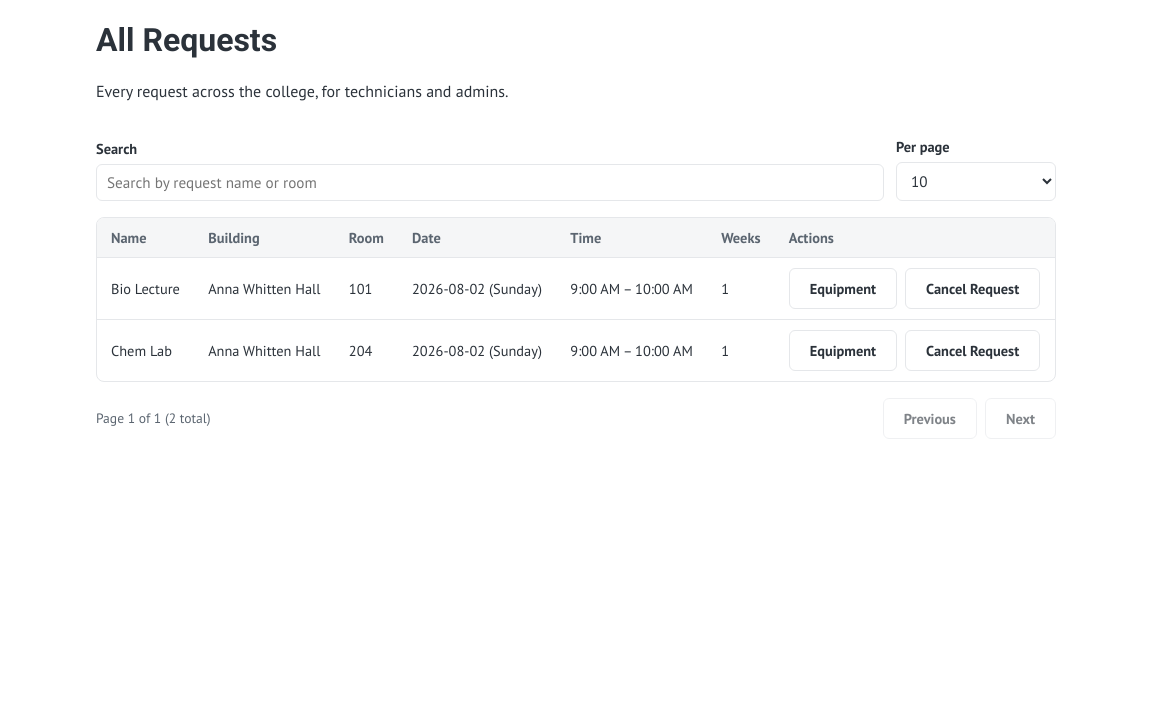
Test: tracking a unit names the unit and its previous booking in the legend
Click the button "Equipment" in the row of "Bio Lecture" at (843, 288), box [789,268,897,309]
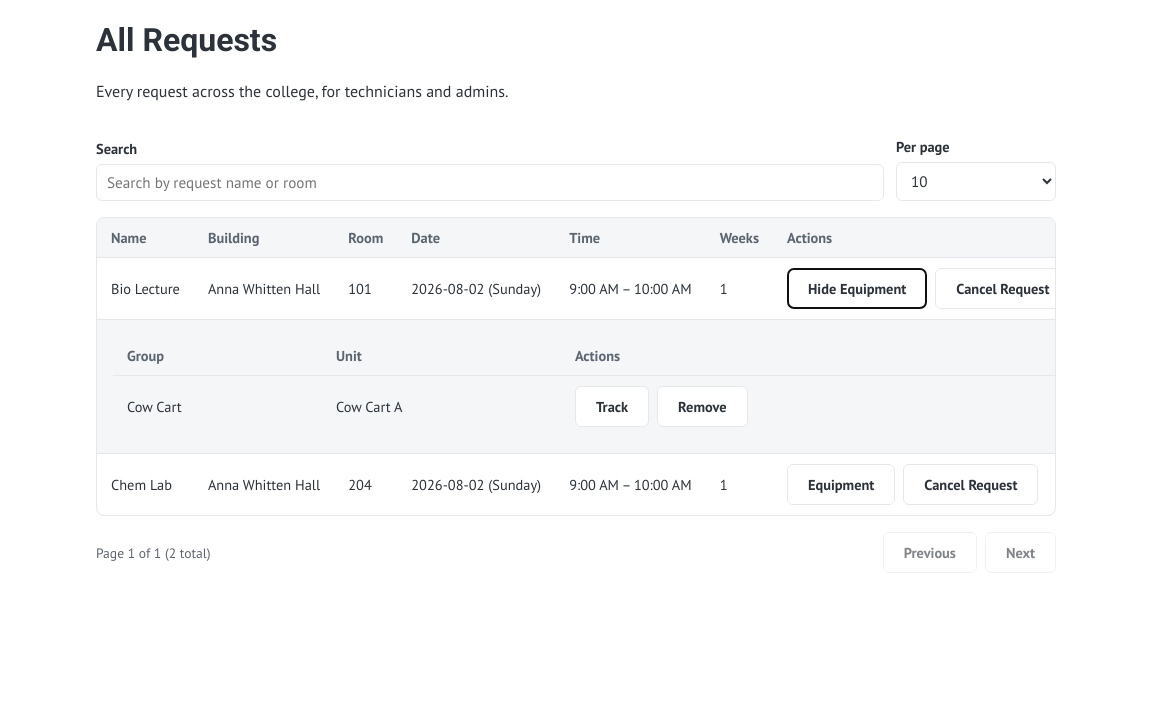
Click the button "Track" at (612, 407), box [575,386,649,427]
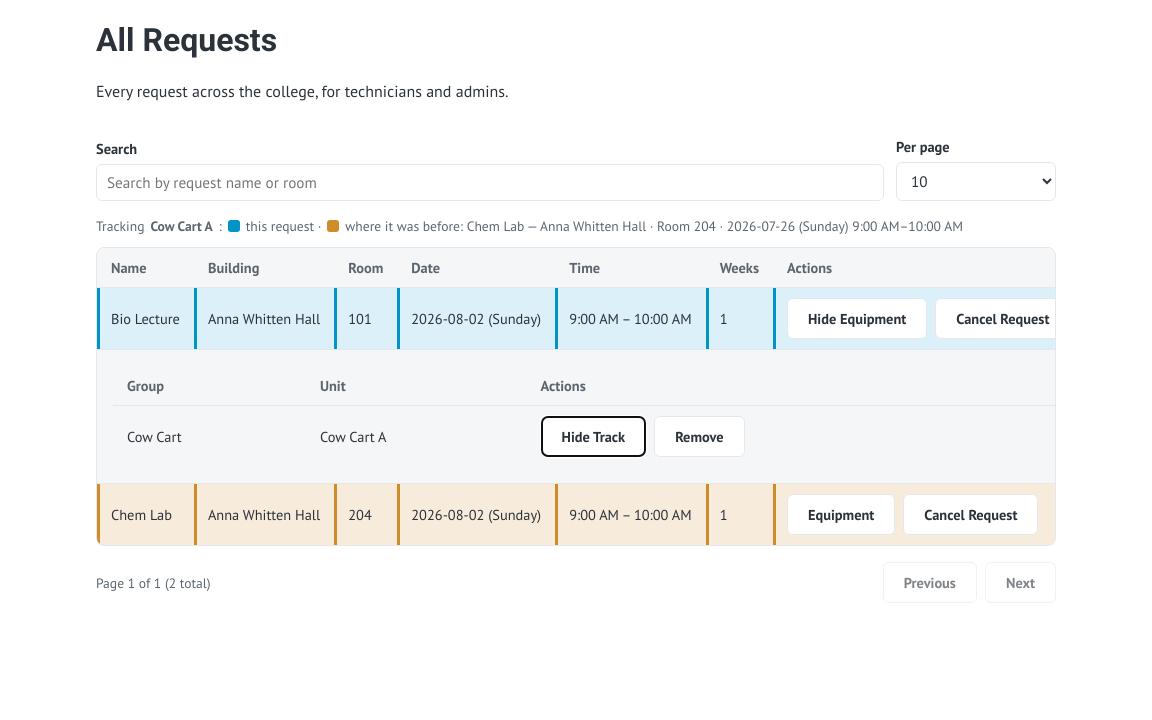
Result: the text "Tracking" shows "Cow Cart A" at [150,217,213,235]
Result: the text "Tracking" shows "Room 204" at [540,217,963,235]
